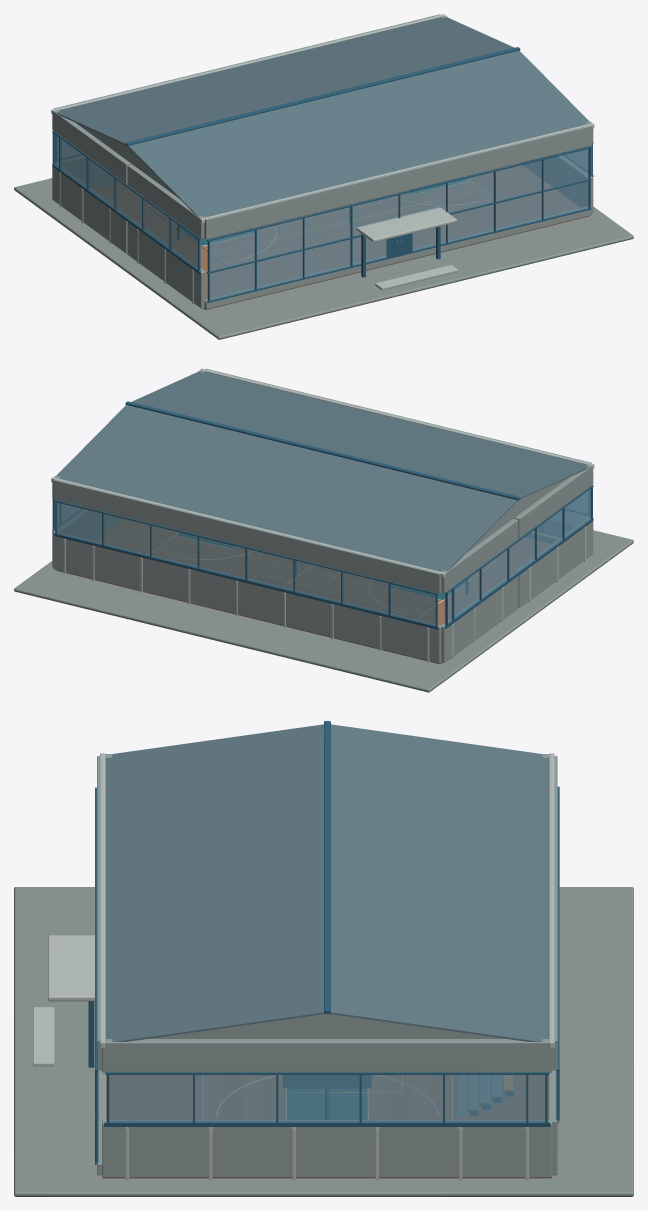
File: minimal-sports-gym.glb
3 views of the same model, one above another, from view 1: azimuth 30°, elevation 25°; view 2: azimuth 150°, elevation 25°; view 3: azimuth 270°, elevation 25° (orthographic). The views are drawn at different scales.
Parts seen in each view (by area): view 1: South roof plane, South continuous glazing, North roof plane, Plain display base, Gym floor base, Near wall upper, West continuous glazing, South facade base sill, West near wall base, West far wall base, West near wall upper, West far wall upper (+18 smaller); view 2: North roof plane, South roof plane, Plain display base, Far wall base, North continuous glazing, Far wall upper, West continuous glazing, Gym floor base, West far wall base, West near wall base, West far wall upper, West near wall upper (+16 smaller); view 3: North roof plane, South roof plane, Plain display base, East wall base, East continuous glazing, East wall upper, Gym floor base, East gable infill, Entrance canopy, Basketball key east, Ridge cap, Far wall upper (+19 smaller).
Part boxes in pixels (<box>): South roof plane: <box>128,50,589,217</box>; South continuous glazing: <box>207,149,588,300</box>; North roof plane: <box>56,17,514,144</box>; Plain display base: <box>14,178,633,339</box>; Gym floor base: <box>95,163,588,309</box>; Near wall upper: <box>204,125,591,239</box>; West continuous glazing: <box>54,134,200,270</box>; South facade base sill: <box>204,207,591,309</box>; West near wall base: <box>127,218,206,308</box>; West far wall base: <box>52,163,130,253</box>; West near wall upper: <box>127,164,204,238</box>; West far wall upper: <box>52,110,130,183</box>; North roof plane: <box>56,405,517,571</box>; South roof plane: <box>131,371,588,499</box>; Plain display base: <box>14,530,633,692</box>; Far wall base: <box>53,532,441,663</box>; North continuous glazing: <box>57,502,438,625</box>; Far wall upper: <box>53,479,441,593</box>; West continuous glazing: <box>444,489,591,625</box>; Gym floor base: <box>56,519,550,664</box>; West far wall base: <box>441,572,518,662</box>; West near wall base: <box>515,517,593,607</box>; West far wall upper: <box>441,518,518,593</box>; West near wall upper: <box>514,464,593,538</box>; North roof plane: <box>328,724,548,1041</box>; South roof plane: <box>106,724,326,1041</box>; Plain display base: <box>14,887,633,1196</box>; East wall base: <box>102,1120,552,1177</box>; East continuous glazing: <box>106,1075,548,1122</box>; East wall upper: <box>102,1039,552,1072</box>; Gym floor base: <box>102,1075,552,1178</box>; East gable infill: <box>149,1013,505,1038</box>; Entrance canopy: <box>48,935,94,1001</box>; Basketball key east: <box>287,1088,367,1119</box>; Ridge cap: <box>324,721,330,1013</box>; Far wall upper: <box>548,756,557,1070</box>.
Size of the model in its own units: 43.5 by 11.85 by 37.2.
